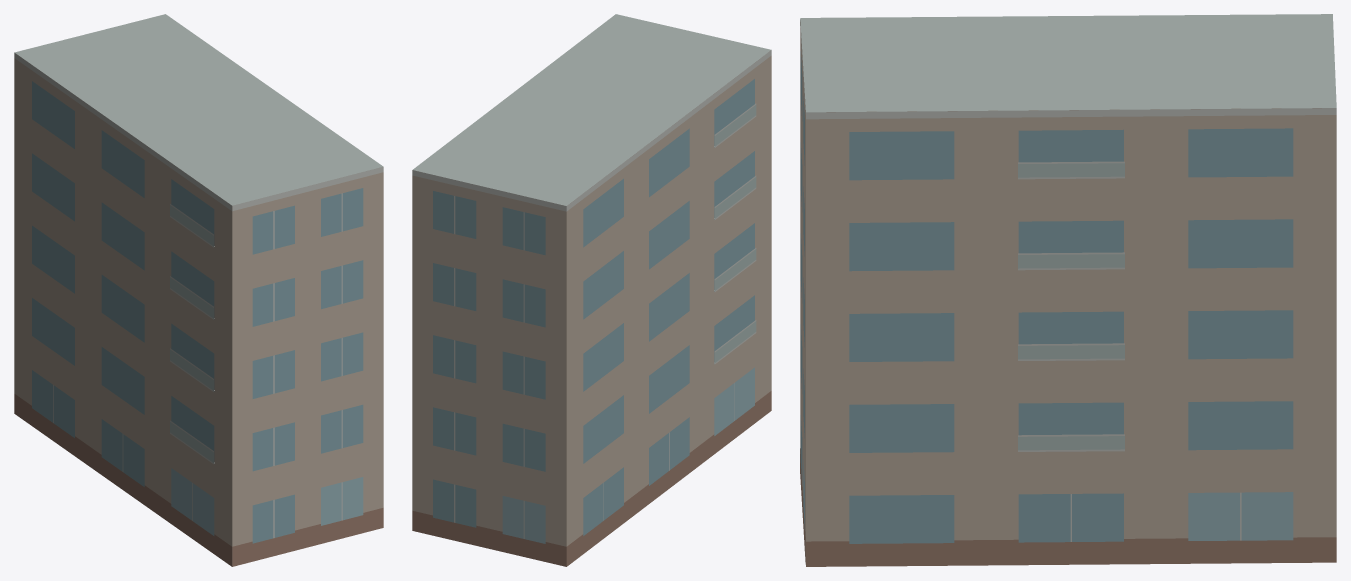
The model's file is survey-upis-32925016.glb.
The picture shows the model from 3 angles, left to right: view 1: azimuth 30°, elevation 25°; view 2: azimuth 150°, elevation 25°; view 3: azimuth 270°, elevation 25°; orthographic projection. The views are drawn at different scales.
Visible parts, largest first — view 1: survey-upis-32925016.tmp; view 2: survey-upis-32925016.tmp; view 3: survey-upis-32925016.tmp.
Part boxes in pixels (x1=…): survey-upis-32925016.tmp: x1=14, y1=14, x2=383, y2=566; survey-upis-32925016.tmp: x1=412, y1=14, x2=771, y2=566; survey-upis-32925016.tmp: x1=800, y1=14, x2=1336, y2=566.
Bounding box in the file's own units: 7.38 × 15.9 × 17.02.
